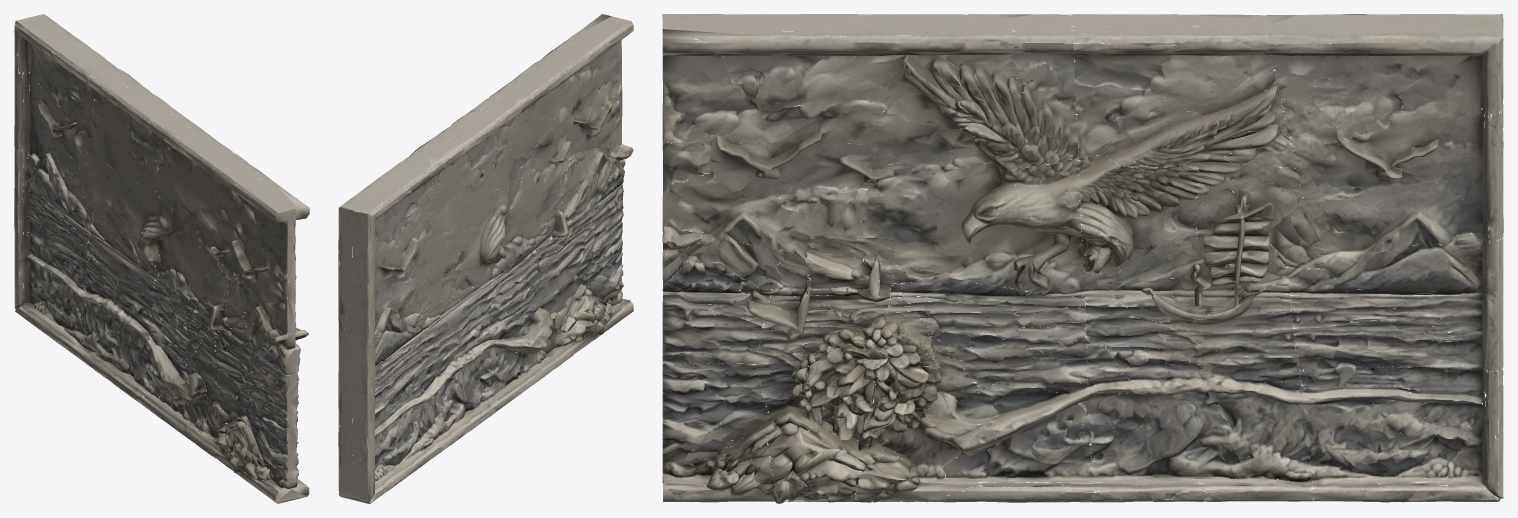
Rendered from relief-7.glb.
3 renders of one model, left to right at view 1: azimuth 30°, elevation 25°; view 2: azimuth 150°, elevation 25°; view 3: azimuth 270°, elevation 25°, orthographic. The views are drawn at different scales.
Parts seen in each view (by area): view 1: tripo_node_7a9c1828-2c26-4d80-80fd-ec449dba18b4; view 2: tripo_node_7a9c1828-2c26-4d80-80fd-ec449dba18b4; view 3: tripo_node_7a9c1828-2c26-4d80-80fd-ec449dba18b4.
Part boxes in pixels (x1,y1,x2,y2): tripo_node_7a9c1828-2c26-4d80-80fd-ec449dba18b4: [14, 14, 309, 503]; tripo_node_7a9c1828-2c26-4d80-80fd-ec449dba18b4: [338, 14, 633, 503]; tripo_node_7a9c1828-2c26-4d80-80fd-ec449dba18b4: [662, 14, 1503, 503].
Bounding box in the file's own units: 0.1241 × 0.5984 × 0.9784.
Materials: 1 (1 with a texture image).
